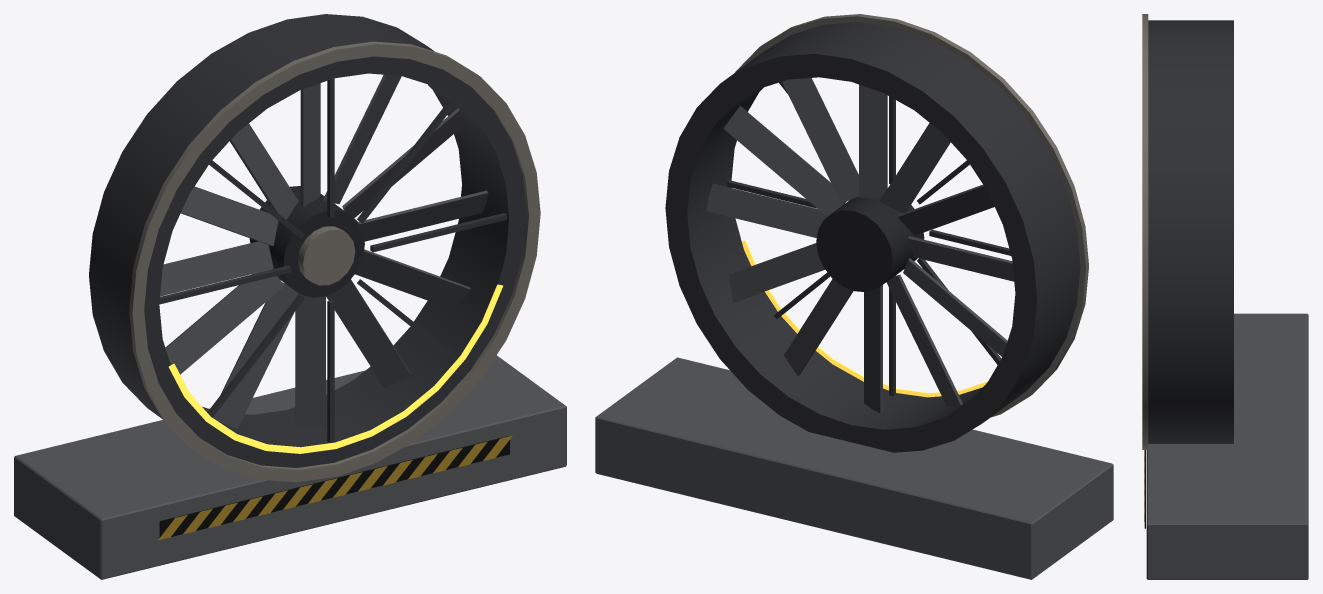
The model's file is nvg_prp_intake_turbine_a.glb.
3 renders of one model, left to right at view 1: azimuth 30°, elevation 25°; view 2: azimuth 150°, elevation 25°; view 3: azimuth 270°, elevation 25°, orthographic. The views are drawn at different scales.
Visible parts, largest first — view 1: mesh_intact; view 2: mesh_intact; view 3: mesh_intact.
Boxes of the visible parts, x1,y1,x2,y2 form: mesh_intact: (14,14,566,579); mesh_intact: (595,14,1113,579); mesh_intact: (1142,14,1308,579).
Bounding box in the file's own units: 8 × 7.8 × 2.67.
